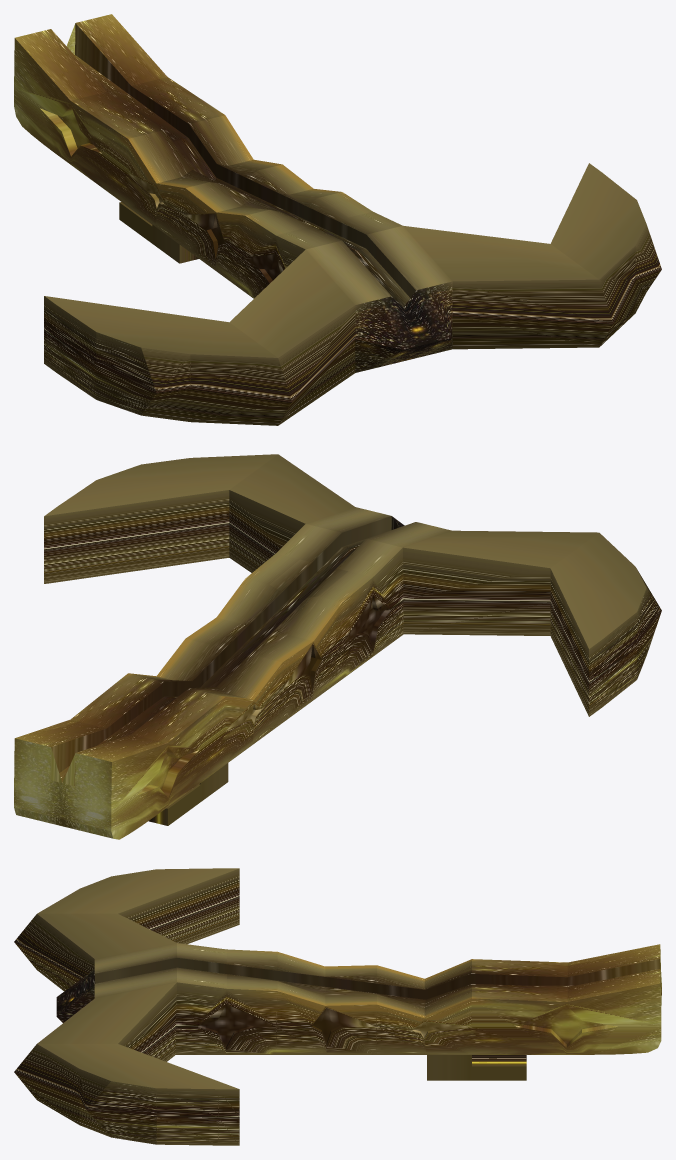
File: Ballesta Luz2 1.fbx
The picture shows the model from 3 angles, top to bottom: view 1: azimuth 30°, elevation 25°; view 2: azimuth 150°, elevation 25°; view 3: azimuth 270°, elevation 25°; orthographic projection. The views are drawn at different scales.
Parts seen in each view (by area): view 1: Cubo; view 2: Cubo; view 3: Cubo.
Part boxes in pixels (x1,y1,x2,y2): Cubo: [14, 14, 661, 425]; Cubo: [14, 454, 661, 839]; Cubo: [14, 868, 661, 1145].
Bounding box in the file's own units: 1121 × 256 × 1390.
Materials: 1 (1 with a texture image).
